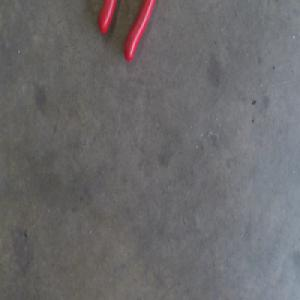Pliers: (98, 0, 157, 63)
